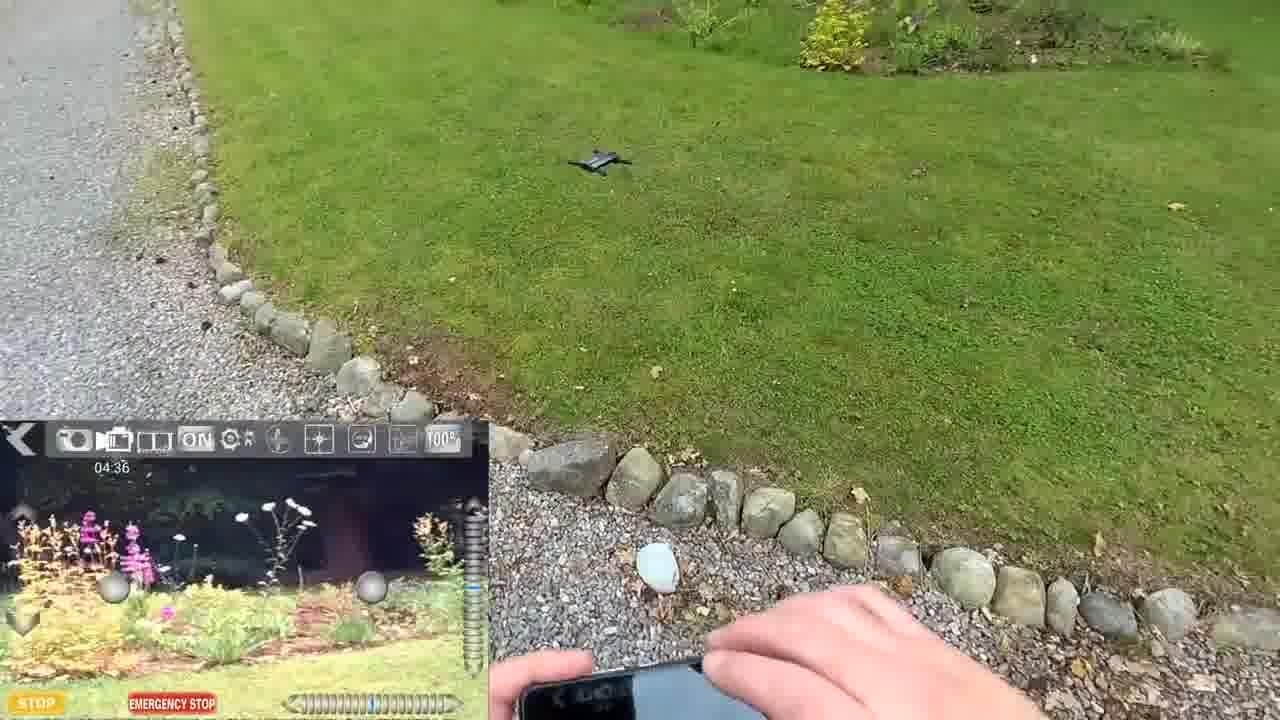drone: (562, 144, 641, 187)
